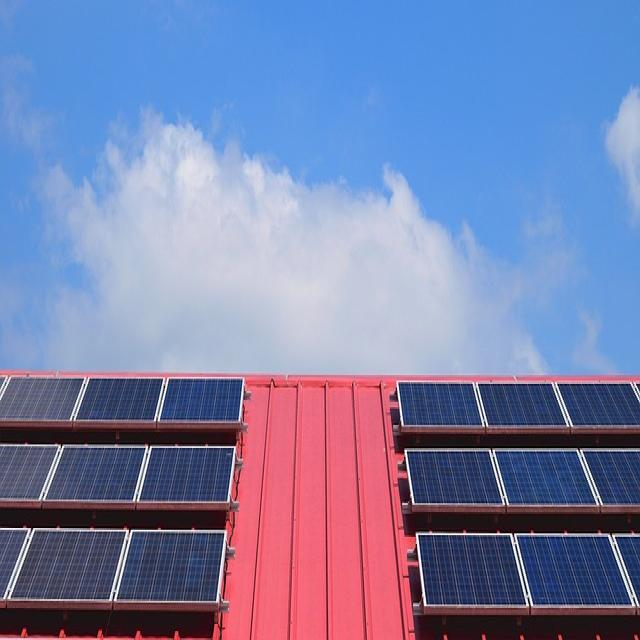clean-solar-panel: (417, 533, 640, 613), (406, 447, 640, 512), (398, 382, 640, 433)
